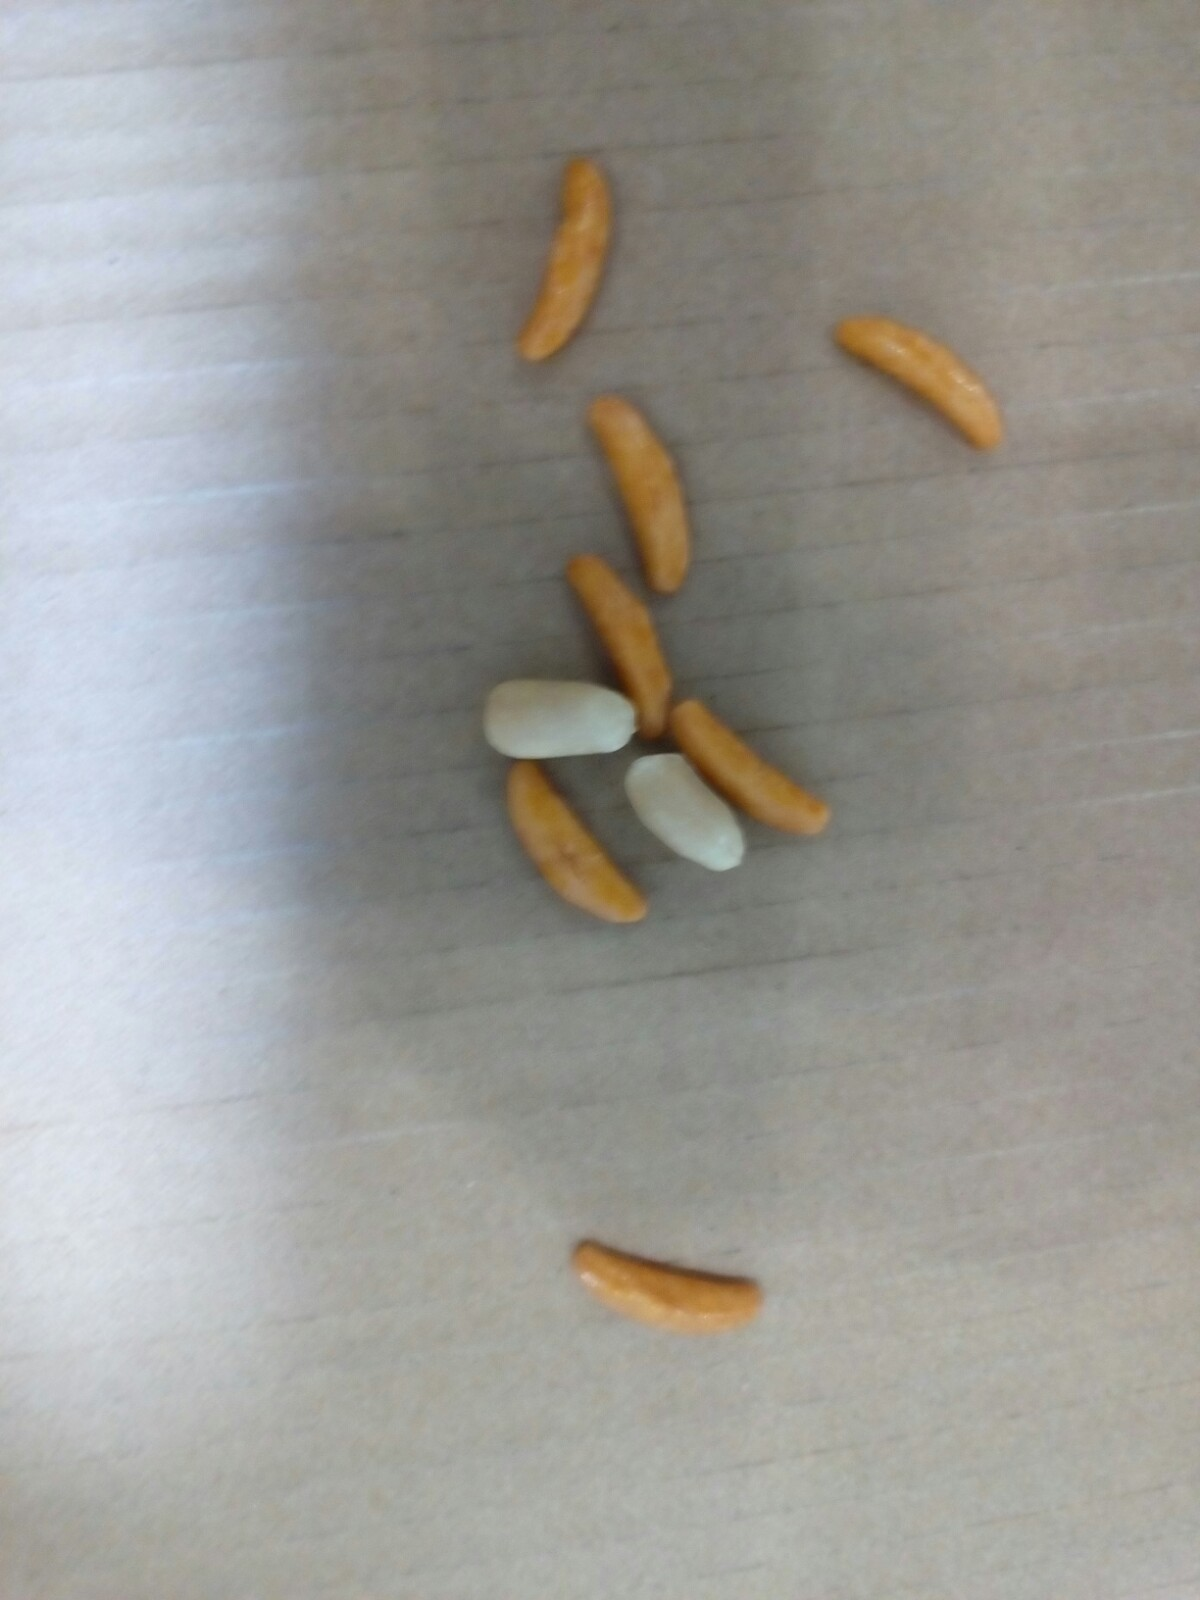peanut: (621, 738, 750, 879), (479, 674, 642, 758)
